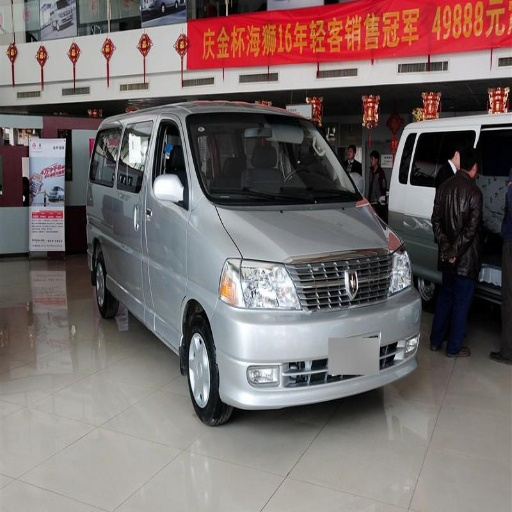front_bumper: (210, 287, 423, 409)
front_right_door: (141, 118, 191, 336)
front_right_light: (220, 255, 299, 309)
hood: (215, 202, 400, 308)
